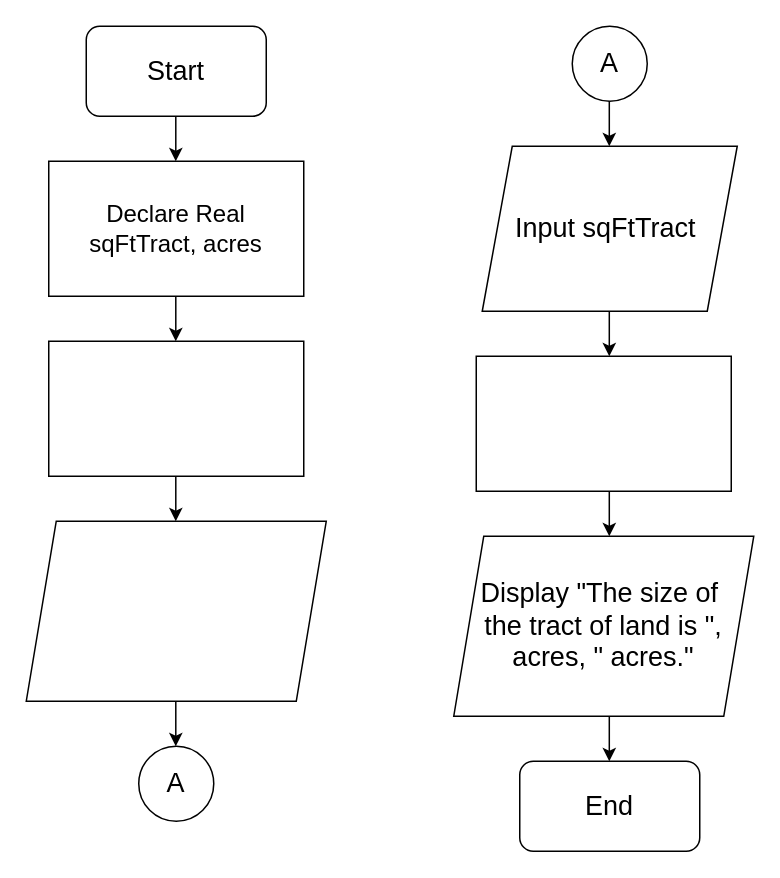
Image size: 780x878. Some labels were removed from this diagram. Each missing label, with the box of its shape:
Constant Integer SQ_FT_PER_ACRE =43560: (47, 340, 304, 476)
Display "Enter the number of square feet of the tract of land": (25, 520, 326, 701)
Set acres = sqFtTract / SQ_FT_PER_ACRE: (475, 355, 731, 491)
